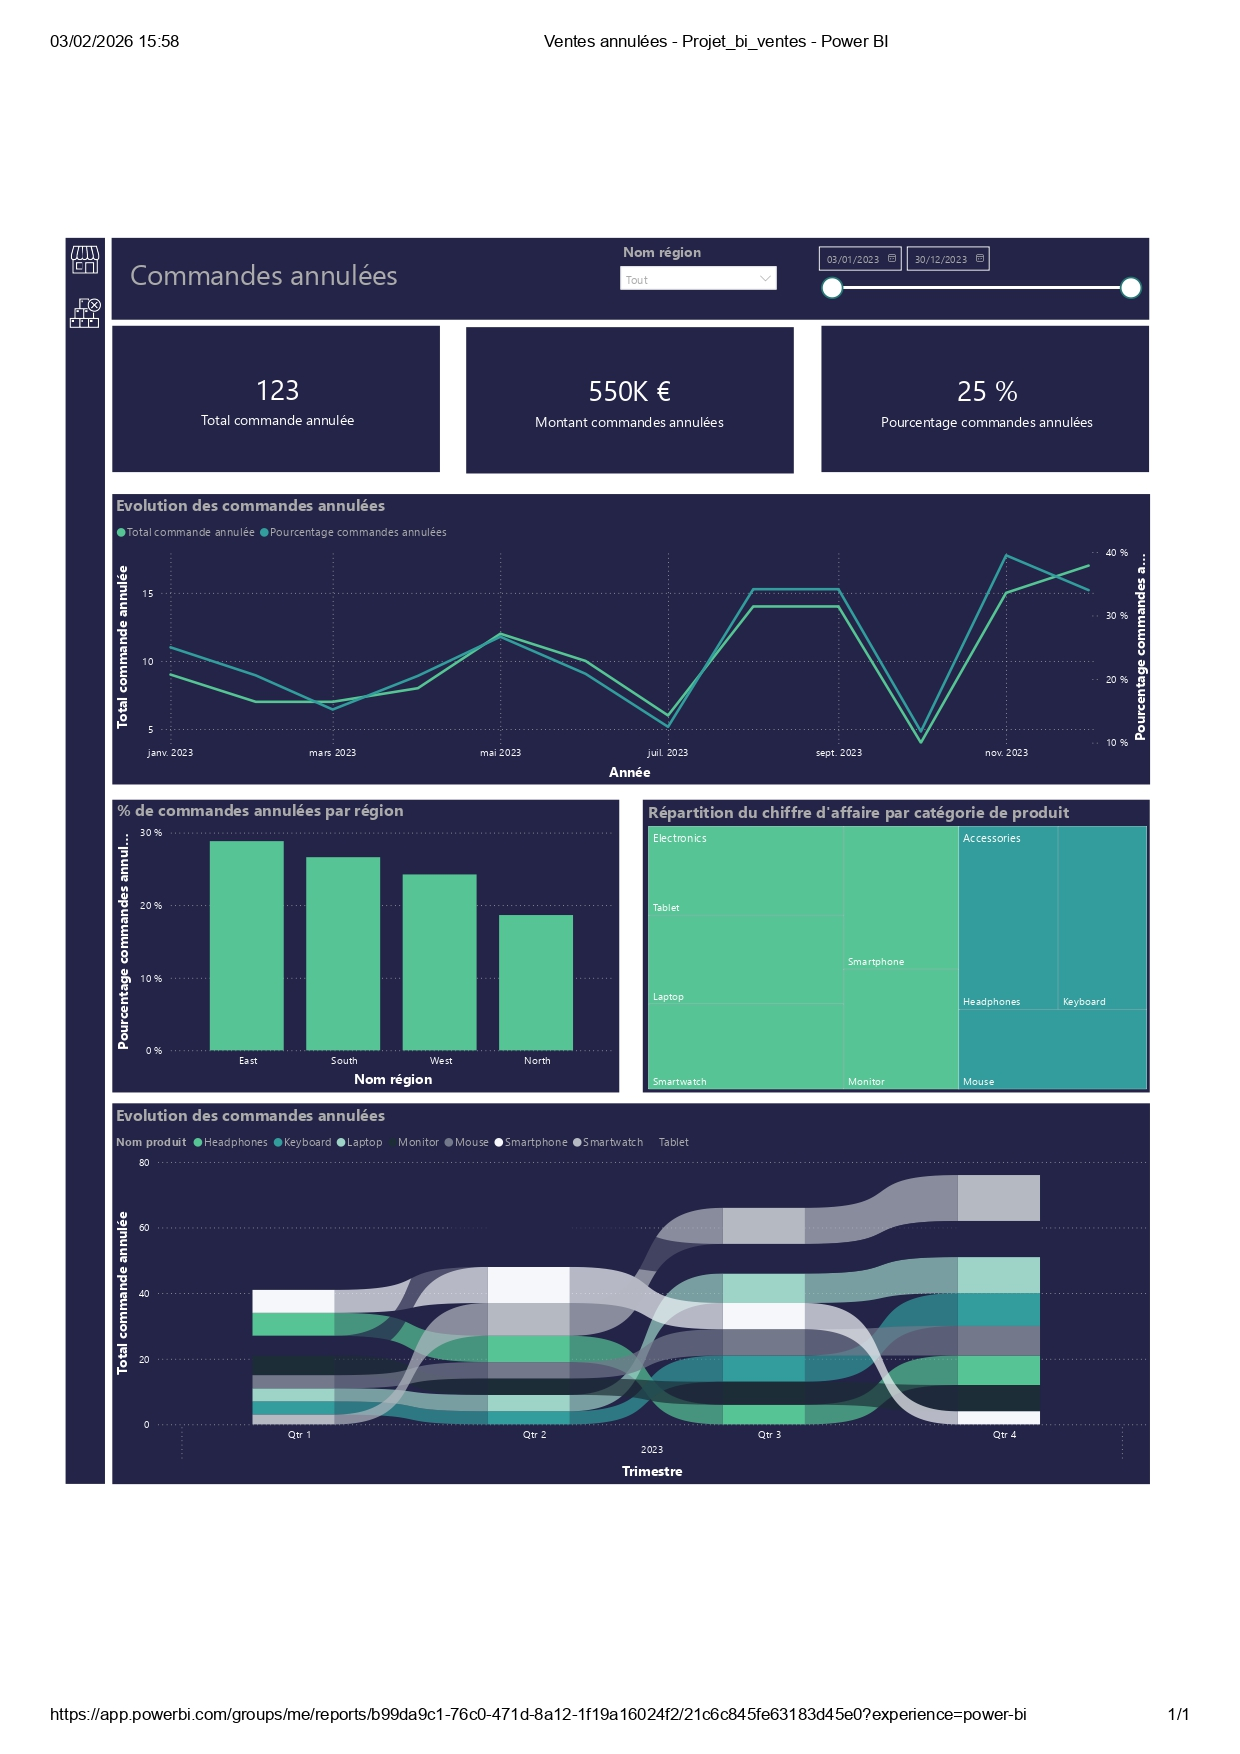

The dashboard page shown, as its layout file describes it:
{"tool":"powerbi","page":{"name":"Ventes annulées","canvas":[1280,1500],"ordinal":1},"visuals":[{"type":"shape","box":[7,7.9,45.7,1445.8],"z":0},{"type":"shape","box":[60.6,7.9,1203.5,95.3],"z":1000},{"type":"shape","box":[883.8,110.2,380.3,169.8],"z":2000},{"type":"shape","box":[61.5,305.2,1203.7,337.2],"z":3000},{"type":"shape","box":[61.5,659.7,588.3,339.7],"z":4000},{"type":"shape","box":[61.6,1011.9,1203.5,441.9],"z":5000},{"type":"shape","box":[676.9,659.7,588.3,339.7],"z":6000},{"type":"textbox","box":[76.5,22.8,333.7,58.6],"z":7000},{"type":"lineChart","title":"Evolution des commandes annulées","fields":{"Category":["Ventes.Date commande.Variation.Hiérarchie de dates.Année","Ventes.Date commande.Variation.Hiérarchie de dates.Trimestre","Ventes.Date commande.Variation.Hiérarchie de dates.Mois","Ventes.Date commande.Variation.Hiérarchie de dates.Jour"],"Y":["Mesures.Total commande annulée"],"Y2":["Mesures.Pourcentage commandes annulées"]},"box":[60.6,304.9,1211.5,337.6],"z":8000},{"type":"clusteredColumnChart","title":"% de commandes annulées par région","fields":{"Category":["Régions.Nom région"],"Y":["Mesures.Pourcentage commandes annulées"]},"box":[61.6,659.4,587.9,339.6],"z":9000},{"type":"treemap","title":"Répartition du chiffre d''affaire par catégorie de produit","fields":{"Group":["Produits.Catégorie produit"],"Values":["Mesures.Total ventes"],"Details":["Produits.Nom produit"]},"box":[678.2,660.4,587.9,339.6],"z":10000},{"type":"slicer","fields":{"Values":["Régions.Nom région"]},"box":[640.5,7.9,200.6,59.6],"z":11000},{"type":"slicer","fields":{"Values":["Ventes.Date commande"]},"box":[867.9,7.9,396.2,95.3],"z":12000},{"type":"shape","box":[471.7,111.2,380.3,169.8],"z":13000},{"type":"shape","box":[61.6,110.2,380.3,169.8],"z":14000},{"type":"card","fields":{"Values":["Mesures.Total commande annulée"]},"box":[63.6,110.2,378.3,169.8],"z":15000},{"type":"card","fields":{"Values":["Mesures.Montant commandes annulées"]},"box":[471.7,111.2,378.3,169.8],"z":16000},{"type":"card","fields":{"Values":["Mesures.Pourcentage commandes annulées"]},"box":[886.8,111.2,378.3,169.8],"z":17000},{"type":"ribbonChart","title":"Evolution des commandes annulées","fields":{"Category":["Ventes.Date commande.Variation.Hiérarchie de dates.Année","Ventes.Date commande.Variation.Hiérarchie de dates.Trimestre","Ventes.Date commande.Variation.Hiérarchie de dates.Mois","Ventes.Date commande.Variation.Hiérarchie de dates.Jour"],"Y":["Mesures.Total commande annulée"],"Series":["Produits.Nom produit"]},"box":[60.6,1011.9,1204.5,441.9],"z":18000},{"type":"image","box":[7,67.6,44.8,55.3],"z":19000},{"type":"image","box":[7,0,44.8,67.6],"z":20000}]}

Visuals, with their boxes on the page's 1280x1500 design canvas (x1, y1, x2, y2). These are canvas units, not pixel positions in the 1240x1754 screenshot, which may show the page scaled, cropped or inside an application window:
shape: [left=7, top=8, right=53, bottom=1454]
shape: [left=61, top=8, right=1264, bottom=103]
shape: [left=884, top=110, right=1264, bottom=280]
shape: [left=62, top=305, right=1265, bottom=642]
shape: [left=62, top=660, right=650, bottom=999]
shape: [left=62, top=1012, right=1265, bottom=1454]
shape: [left=677, top=660, right=1265, bottom=999]
textbox: [left=76, top=23, right=410, bottom=81]
"Evolution des commandes annulées" lineChart: [left=61, top=305, right=1272, bottom=642]
"% de commandes annulées par région" clusteredColumnChart: [left=62, top=659, right=650, bottom=999]
"Répartition du chiffre d''affaire par catégorie de produit" treemap: [left=678, top=660, right=1266, bottom=1000]
slicer - Régions.Nom région: [left=640, top=8, right=841, bottom=68]
slicer - Ventes.Date commande: [left=868, top=8, right=1264, bottom=103]
shape: [left=472, top=111, right=852, bottom=281]
shape: [left=62, top=110, right=442, bottom=280]
card - Mesures.Total commande annulée: [left=64, top=110, right=442, bottom=280]
card - Mesures.Montant commandes annulées: [left=472, top=111, right=850, bottom=281]
card - Mesures.Pourcentage commandes annulées: [left=887, top=111, right=1265, bottom=281]
"Evolution des commandes annulées" ribbonChart: [left=61, top=1012, right=1265, bottom=1454]
image: [left=7, top=68, right=52, bottom=123]
image: [left=7, top=0, right=52, bottom=68]
